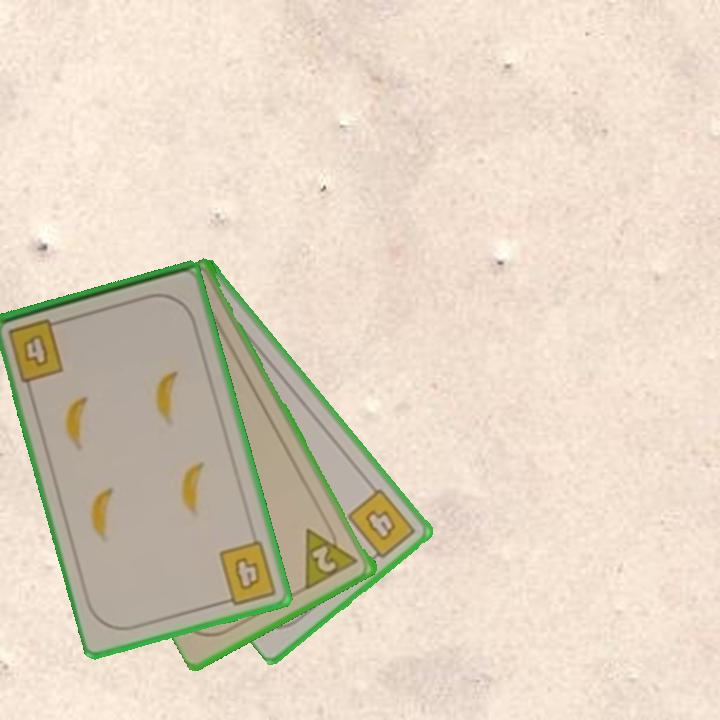2p: (301, 517, 362, 592)
4b: (343, 485, 419, 566), (215, 537, 280, 608), (4, 315, 69, 385)
